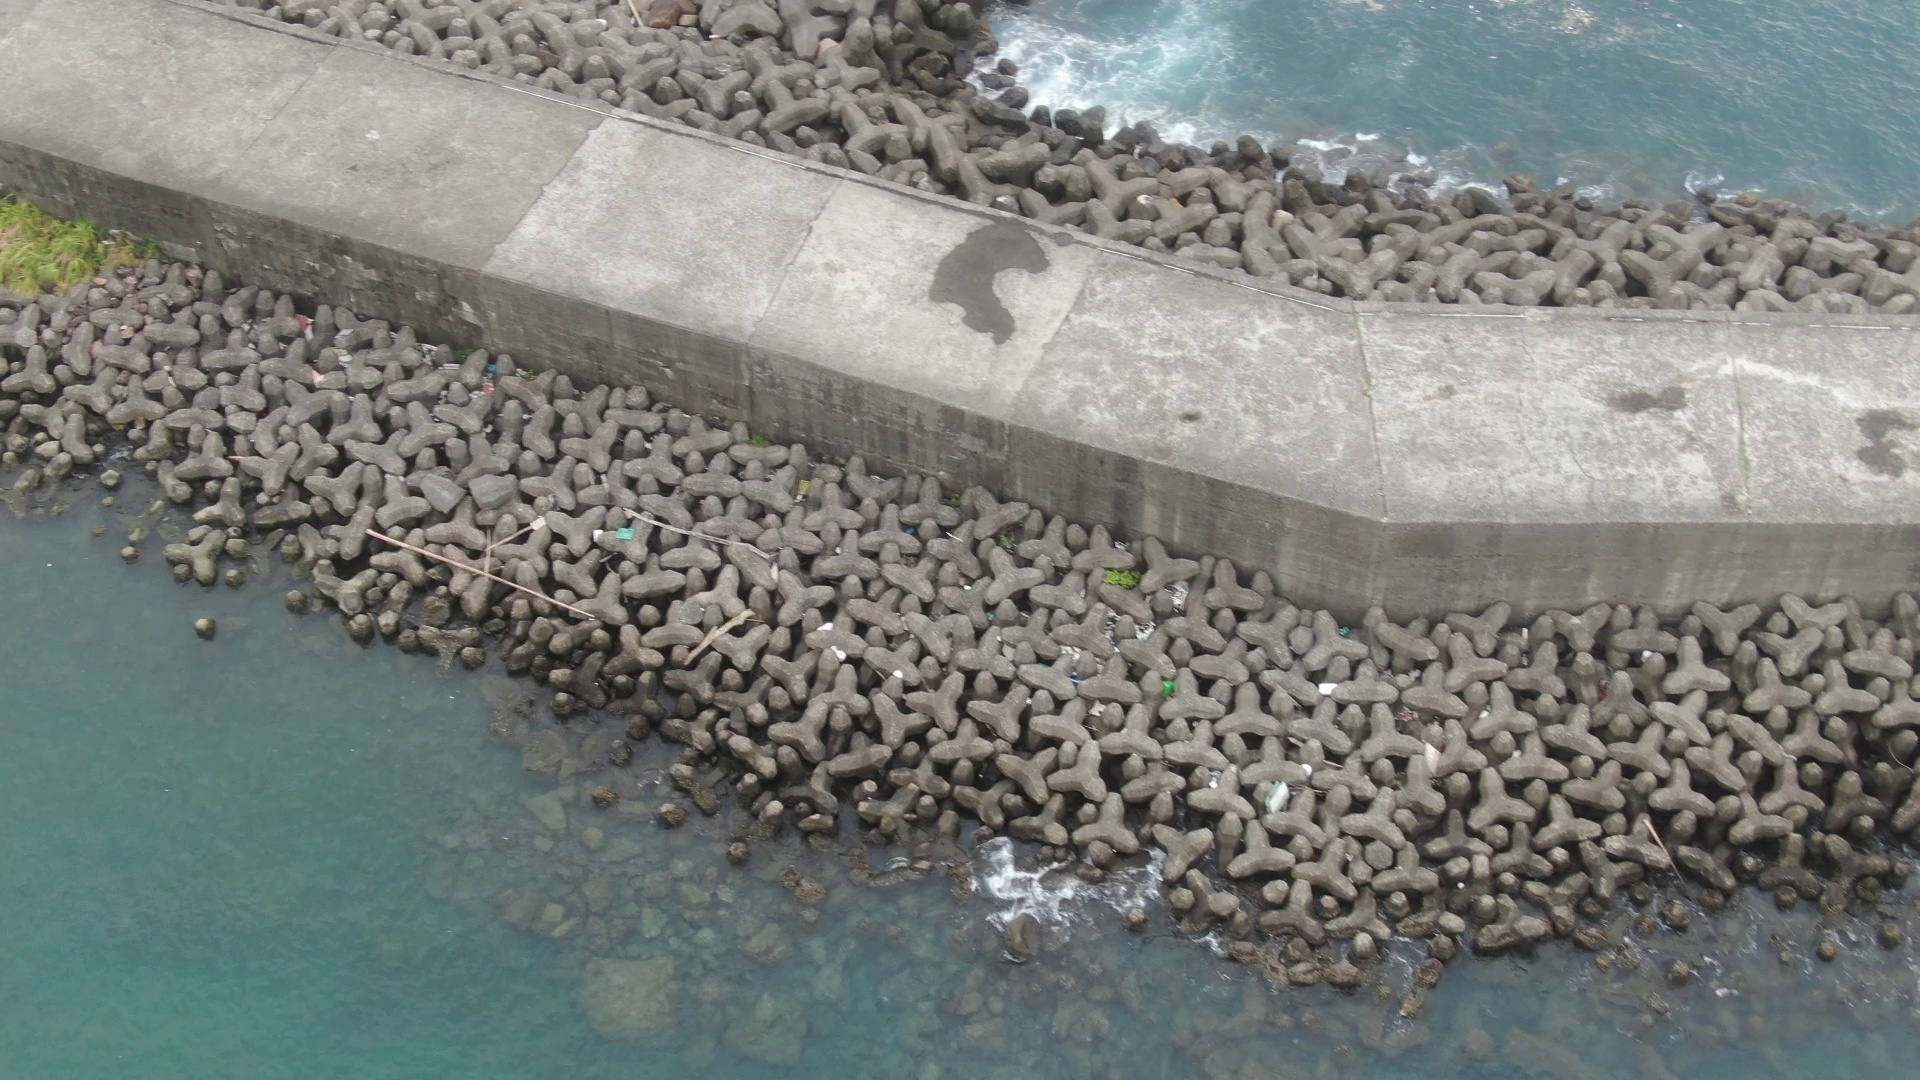garbage: (1261, 775, 1302, 825), (1153, 674, 1182, 708), (612, 521, 640, 549)
